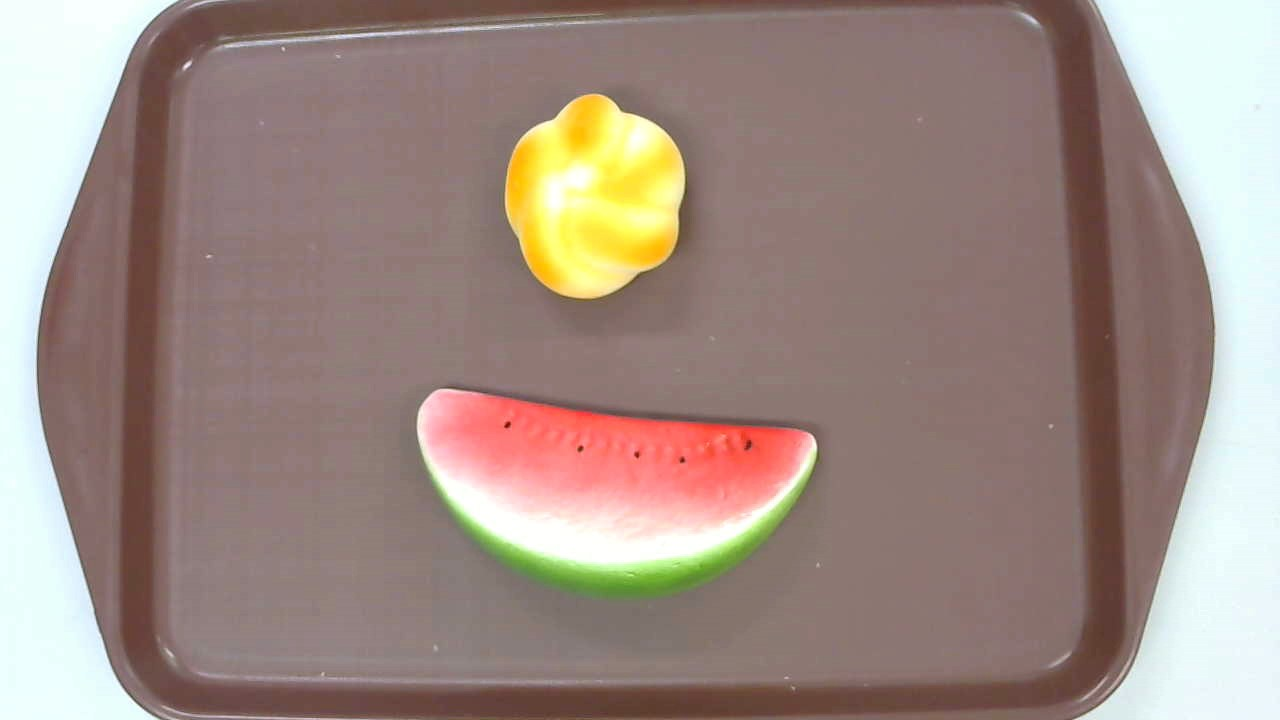twist bread: (503, 94, 686, 301)
water melon: (416, 387, 819, 599)
